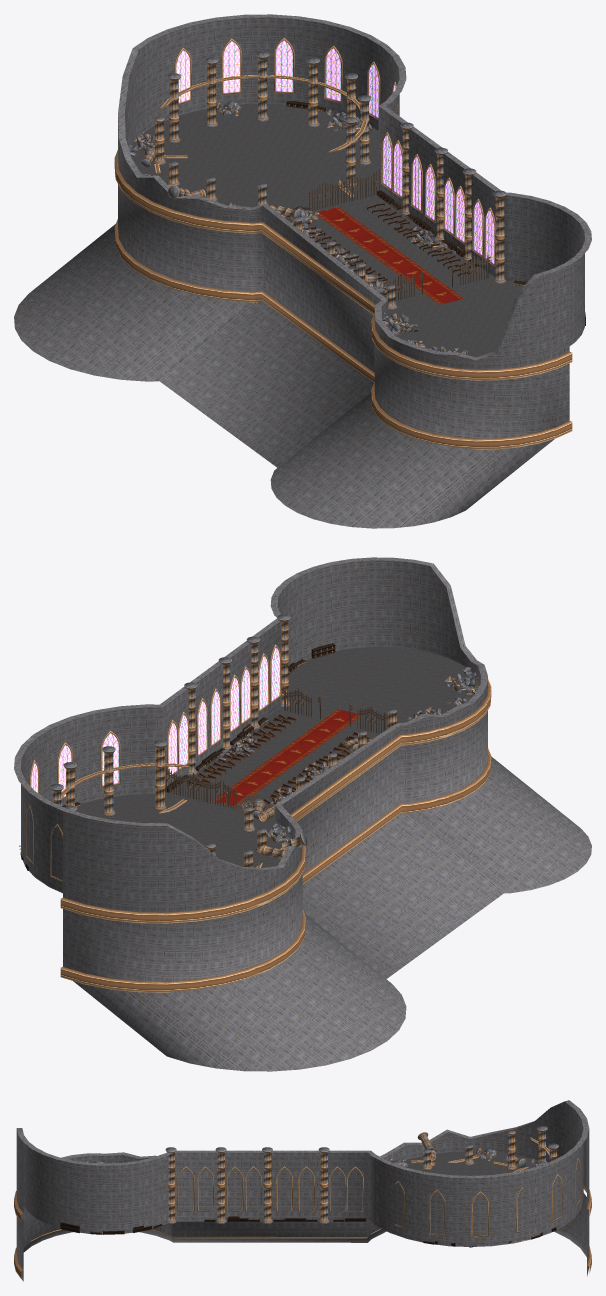
File: level3_cleanGLTF.gltf
3 views of the same model, one above another, from view 1: azimuth 30°, elevation 25°; view 2: azimuth 150°, elevation 25°; view 3: azimuth 270°, elevation 25° (orthographic). The views are drawn at different scales.
Parts seen in each view (by area): view 1: Chunk1, Columns; view 2: Chunk1, Columns; view 3: Chunk1, Columns.
Part boxes in pixels (box(x1,y1,x2,y2)): Chunk1: box(14, 14, 591, 528); Columns: box(128, 51, 378, 206); Chunk1: box(14, 557, 591, 1071); Columns: box(19, 740, 307, 867); Chunk1: box(14, 1100, 591, 1281); Columns: box(388, 1126, 558, 1247).
Bounding box in the file's own units: 71.19 × 42.48 × 122.
Materials: 12 (12 with a texture image).
